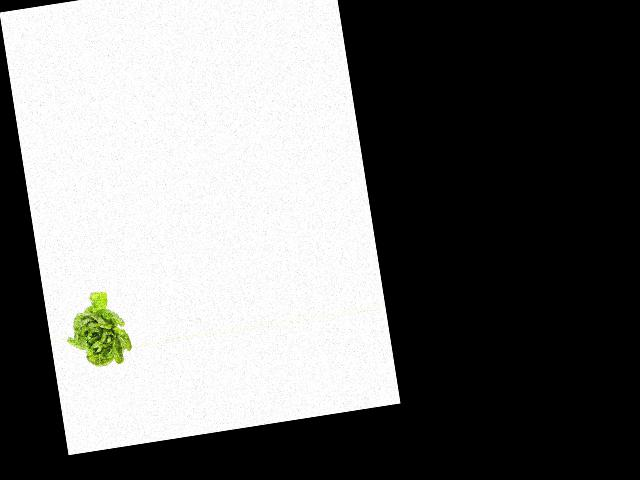lettuce: (59, 285, 132, 372)
